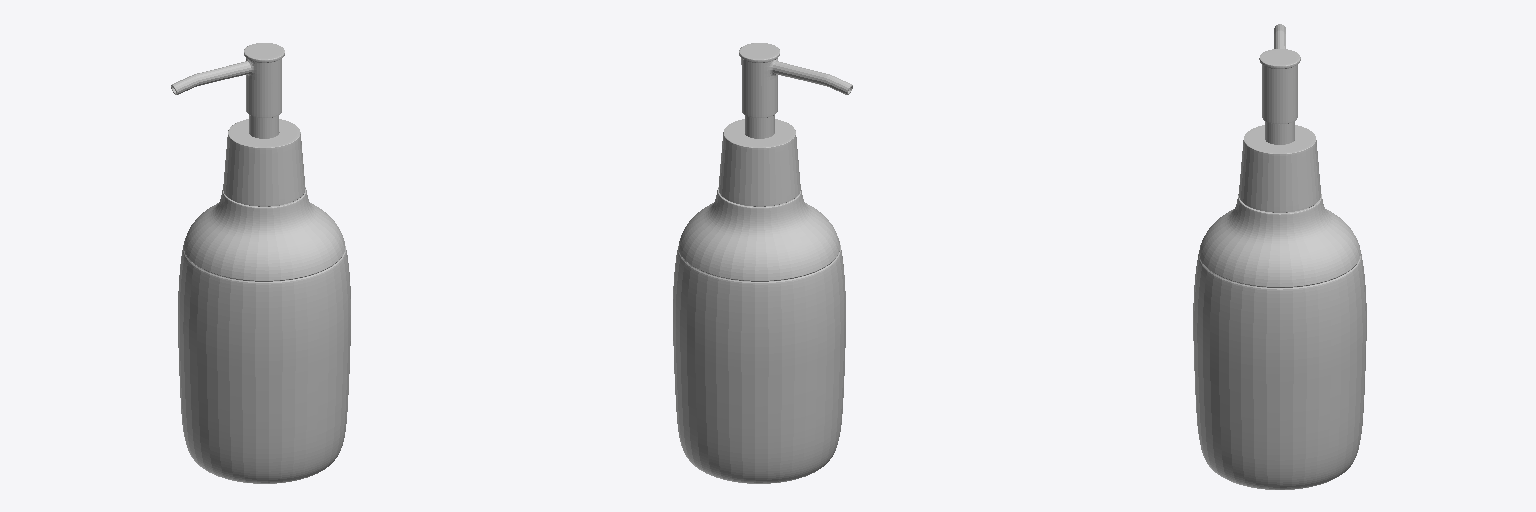
The model's file is Shampoo bottle.obj.
The picture shows the model from 3 angles: view 1: azimuth 30°, elevation 25°; view 2: azimuth 150°, elevation 25°; view 3: azimuth 270°, elevation 25°; orthographic projection.
Parts seen in each view (by area): view 1: Line001; view 2: Line001; view 3: Line001.
Part boxes in pixels (left/top/right/bottom): Line001: left=171, top=43, right=350, bottom=483; Line001: left=673, top=43, right=852, bottom=483; Line001: left=1193, top=24, right=1366, bottom=489.
Size of the model in its own units: 8.32 by 19.26 by 7.47.